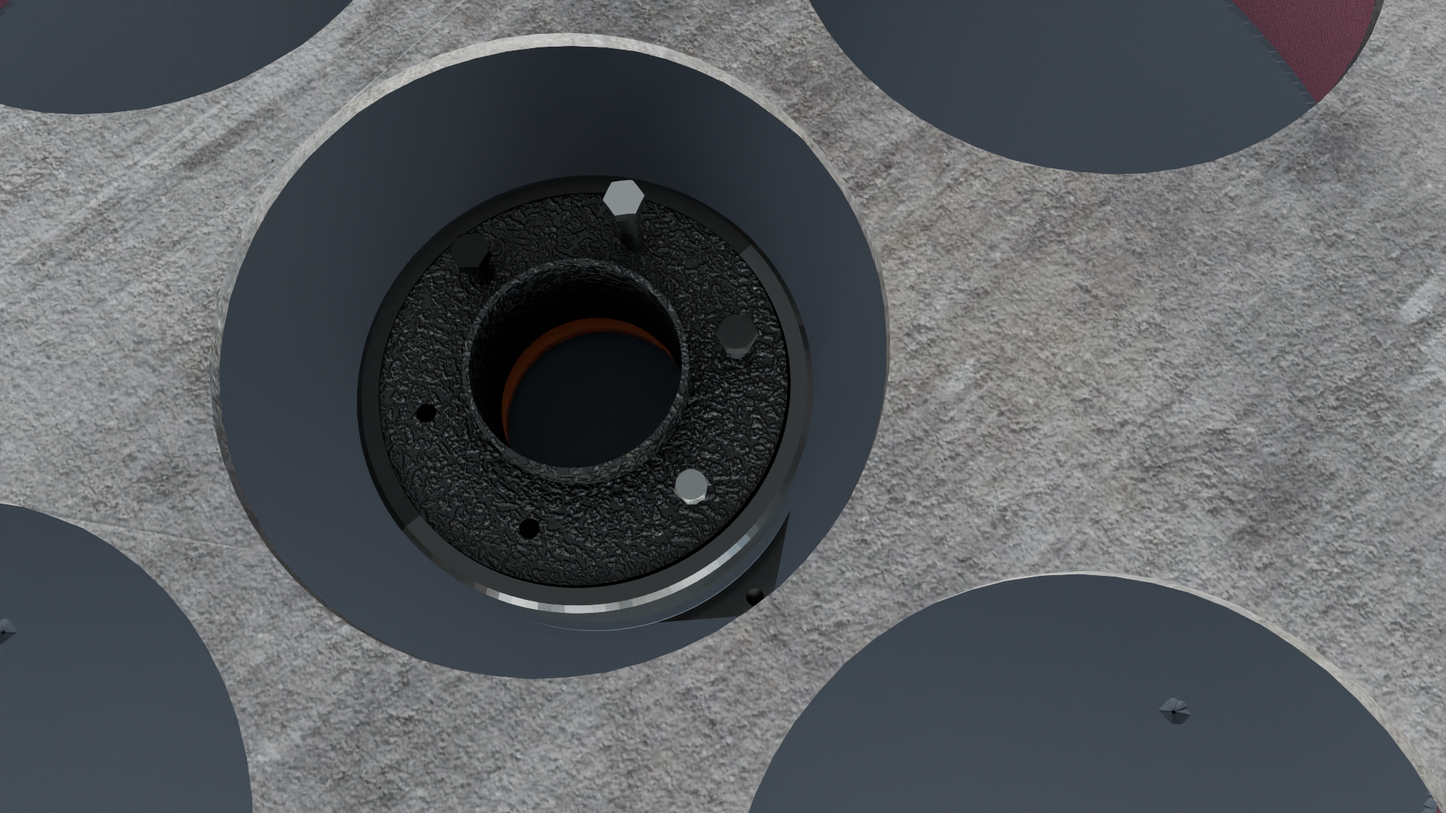bolt: (602, 180, 645, 215), (716, 315, 758, 349), (449, 234, 490, 268), (674, 468, 709, 503)
